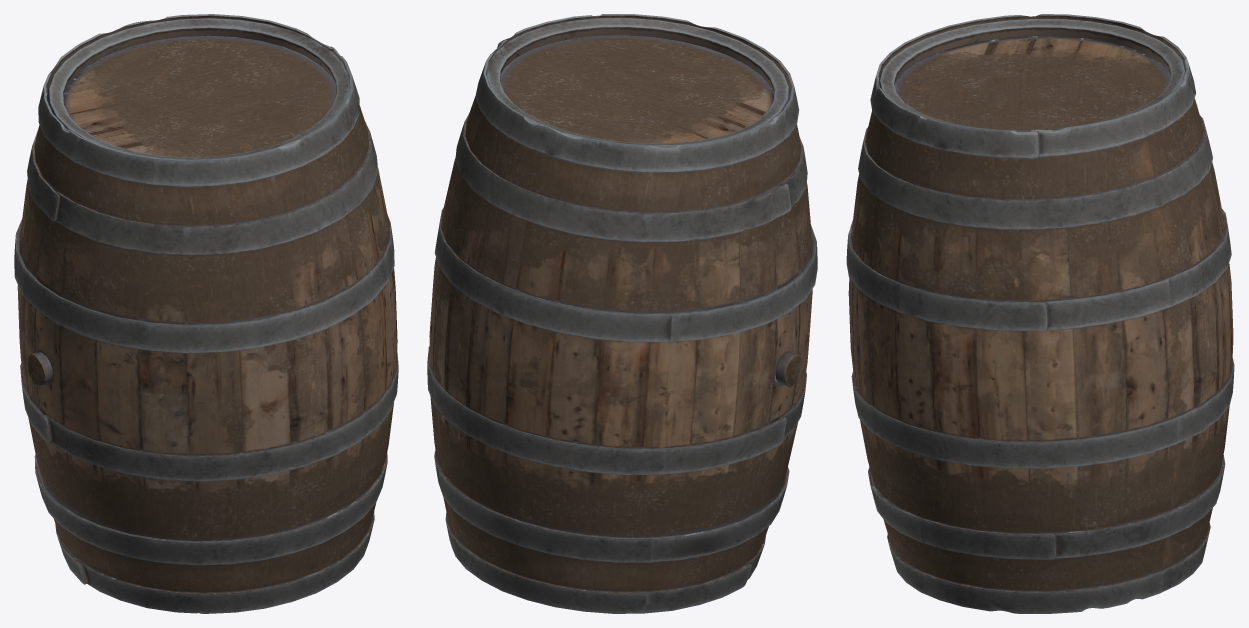
The model's file is SM_Barrel.fbx.
3 views of the same model, side by side, from view 1: azimuth 30°, elevation 25°; view 2: azimuth 150°, elevation 25°; view 3: azimuth 270°, elevation 25° (orthographic).
Parts seen in each view (by area): view 1: SM_Barrel_LOD0; view 2: SM_Barrel_LOD0; view 3: SM_Barrel_LOD0.
Part boxes in pixels (x1=…): SM_Barrel_LOD0: x1=14, y1=14, x2=398, y2=613; SM_Barrel_LOD0: x1=427, y1=14, x2=817, y2=613; SM_Barrel_LOD0: x1=846, y1=14, x2=1234, y2=613.
Bounding box in the file's own units: 98.65 × 96.5 × 134.
